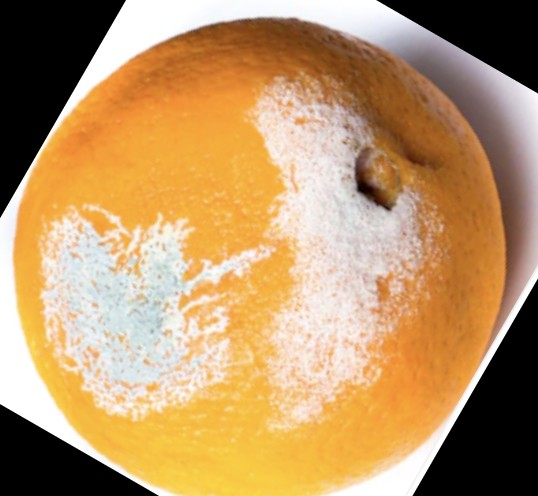rotten_orange: (13, 17, 506, 496)
